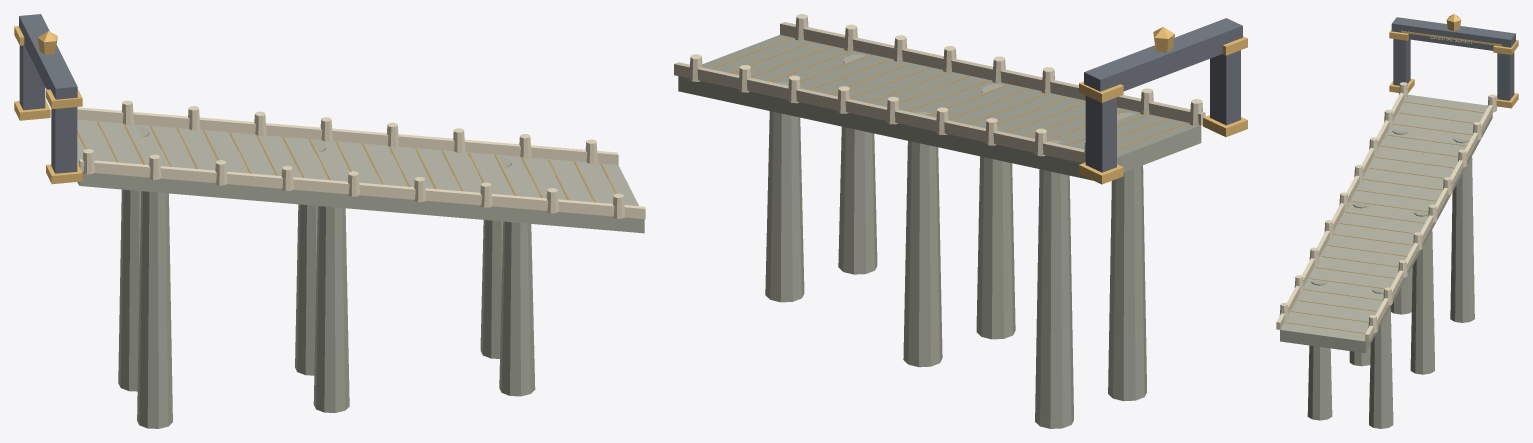
File: Branch_CelestialSummit.glb
3 views of the same model, side by side, from view 1: azimuth 30°, elevation 25°; view 2: azimuth 150°, elevation 25°; view 3: azimuth 270°, elevation 25° (orthographic). The views are drawn at different scales.
Visible parts, largest first — view 1: Branch_CelestialSummit_Sanctuary limestone_-3_0, Branch_CelestialSummit_Warm ivory_-3_0, Branch_CelestialSummit_Sanctuary limestone_-2_0, Branch_CelestialSummit_CelestialSummit_dark_-3_0, Branch_CelestialSummit_Warm ivory_-2_0, Branch_CelestialSummit_CelestialSummit_accent_-3_0, Branch_CelestialSummit_CelestialSummit_dark_-3_1, Branch_CelestialSummit_Aged gold_-3_0, Branch_CelestialSummit_Aged gold_-2_0, Branch_CelestialSummit_CelestialSummit_accent_-3_1; view 2: Branch_CelestialSummit_Sanctuary limestone_-3_0, Branch_CelestialSummit_Warm ivory_-3_0, Branch_CelestialSummit_Sanctuary limestone_-2_0, Branch_CelestialSummit_CelestialSummit_dark_-3_0, Branch_CelestialSummit_CelestialSummit_dark_-3_1, Branch_CelestialSummit_Warm ivory_-2_0, Branch_CelestialSummit_Aged gold_-3_0, Branch_CelestialSummit_Aged gold_-2_0, Branch_CelestialSummit_CelestialSummit_accent_-3_0, Branch_CelestialSummit_CelestialSummit_accent_-3_1; view 3: Branch_CelestialSummit_Sanctuary limestone_-3_0, Branch_CelestialSummit_Warm ivory_-3_0, Branch_CelestialSummit_Sanctuary limestone_-2_0, Branch_CelestialSummit_CelestialSummit_dark_-3_0, Branch_CelestialSummit_Aged gold_-3_0, Branch_CelestialSummit_Aged gold_-2_0, Branch_CelestialSummit_Warm ivory_-2_0, Branch_CelestialSummit_CelestialSummit_dark_-3_1, Branch_CelestialSummit_CelestialSummit_accent_-3_0, Branch_CelestialSummit_CelestialSummit_accent_-3_1.
Part boxes in pixels (bbox=[...]): Branch_CelestialSummit_Sanctuary limestone_-3_0: bbox=[77, 119, 644, 428]; Branch_CelestialSummit_Warm ivory_-3_0: bbox=[77, 100, 645, 219]; Branch_CelestialSummit_Sanctuary limestone_-2_0: bbox=[480, 157, 535, 396]; Branch_CelestialSummit_CelestialSummit_dark_-3_0: bbox=[19, 14, 77, 173]; Branch_CelestialSummit_Warm ivory_-2_0: bbox=[387, 122, 625, 218]; Branch_CelestialSummit_CelestialSummit_accent_-3_0: bbox=[37, 31, 82, 184]; Branch_CelestialSummit_CelestialSummit_dark_-3_1: bbox=[19, 45, 45, 110]; Branch_CelestialSummit_Aged gold_-3_0: bbox=[77, 121, 383, 184]; Branch_CelestialSummit_Aged gold_-2_0: bbox=[388, 146, 616, 202]; Branch_CelestialSummit_CelestialSummit_accent_-3_1: bbox=[14, 26, 50, 120]; Branch_CelestialSummit_Sanctuary limestone_-3_0: bbox=[678, 35, 1201, 428]; Branch_CelestialSummit_Warm ivory_-3_0: bbox=[674, 22, 1205, 163]; Branch_CelestialSummit_Sanctuary limestone_-2_0: bbox=[765, 54, 877, 302]; Branch_CelestialSummit_CelestialSummit_dark_-3_0: bbox=[1084, 18, 1242, 125]; Branch_CelestialSummit_CelestialSummit_dark_-3_1: bbox=[1085, 95, 1116, 172]; Branch_CelestialSummit_Warm ivory_-2_0: bbox=[689, 14, 906, 113]; Branch_CelestialSummit_Aged gold_-3_0: bbox=[899, 75, 1186, 149]; Branch_CelestialSummit_Aged gold_-2_0: bbox=[709, 37, 949, 102]; Branch_CelestialSummit_CelestialSummit_accent_-3_0: bbox=[1153, 27, 1247, 137]; Branch_CelestialSummit_CelestialSummit_accent_-3_1: bbox=[1079, 81, 1123, 184]; Branch_CelestialSummit_Sanctuary limestone_-3_0: bbox=[1280, 94, 1492, 374]; Branch_CelestialSummit_Warm ivory_-3_0: bbox=[1276, 35, 1496, 341]; Branch_CelestialSummit_Sanctuary limestone_-2_0: bbox=[1307, 280, 1393, 428]; Branch_CelestialSummit_CelestialSummit_dark_-3_0: bbox=[1391, 17, 1515, 85]; Branch_CelestialSummit_Aged gold_-3_0: bbox=[1339, 101, 1484, 233]; Branch_CelestialSummit_Aged gold_-2_0: bbox=[1285, 234, 1412, 333]; Branch_CelestialSummit_Warm ivory_-2_0: bbox=[1279, 232, 1422, 332]; Branch_CelestialSummit_CelestialSummit_dark_-3_1: bbox=[1497, 52, 1514, 100]; Branch_CelestialSummit_CelestialSummit_accent_-3_0: bbox=[1389, 14, 1501, 93]; Branch_CelestialSummit_CelestialSummit_accent_-3_1: bbox=[1493, 40, 1518, 108].
Bounding box in the file's own units: 140 × 93 × 75.3.
